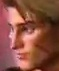kevin: (4, 1, 55, 70)
